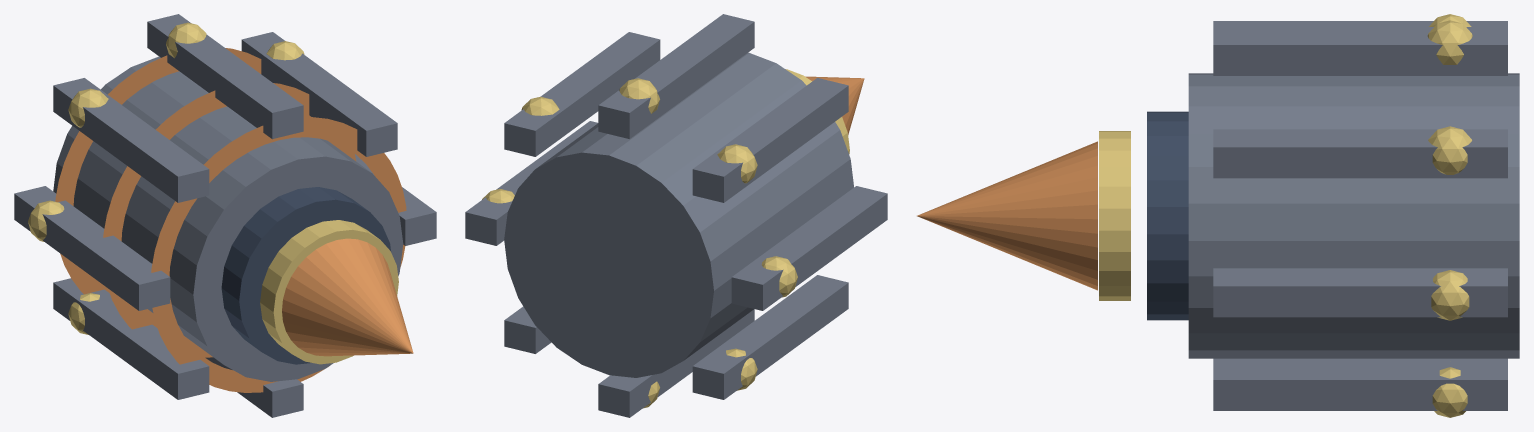
The model's file is thr-4.glb.
3 views of the same model, side by side, from view 1: azimuth 30°, elevation 25°; view 2: azimuth 150°, elevation 25°; view 3: azimuth 270°, elevation 25° (orthographic). The views are drawn at different scales.
Visible parts, largest first — view 1: part000, part004, part002, part023, part009, part011, part013, part015, part007, part003, part022, part021 (+7 smaller); view 2: part000, part015, part013, part009, part011, part007, part017, part005, part019, part012, part010, part014 (+3 smaller); view 3: part000, part004, part019, part009, part005, part007, part002, part003, part006, part011, part008, part010 (+2 smaller).
Part boxes in pixels (x1=…): part000: x1=53, y1=56, x2=403, y2=381; part004: x1=282, y1=238, x2=413, y2=356; part002: x1=221, y1=187, x2=391, y2=364; part023: x1=151, y1=117, x2=406, y2=392; part009: x1=147, y1=14, x2=303, y2=139; part011: x1=53, y1=78, x2=209, y2=202; part013: x1=14, y1=186, x2=170, y2=310; part015: x1=53, y1=278, x2=209, y2=399; part007: x1=241, y1=32, x2=397, y2=156; part003: x1=260, y1=220, x2=398, y2=364; part022: x1=103, y1=83, x2=356, y2=357; part021: x1=55, y1=48, x2=261, y2=320; part000: x1=504, y1=52, x2=853, y2=377; part015: x1=692, y1=275, x2=848, y2=399; part013: x1=731, y1=186, x2=887, y2=310; part009: x1=598, y1=14, x2=754, y2=139; part011: x1=692, y1=78, x2=848, y2=202; part007: x1=504, y1=32, x2=660, y2=156; part017: x1=598, y1=309, x2=754, y2=417; part005: x1=465, y1=121, x2=597, y2=245; part019: x1=504, y1=306, x2=551, y2=353; part012: x1=717, y1=144, x2=757, y2=183; part010: x1=619, y1=78, x2=659, y2=113; part014: x1=761, y1=256, x2=797, y2=297; part000: x1=1188, y1=73, x2=1519, y2=358; part004: x1=917, y1=141, x2=1097, y2=290; part019: x1=1213, y1=362, x2=1507, y2=410; part009: x1=1213, y1=27, x2=1507, y2=75; part005: x1=1213, y1=268, x2=1507, y2=317; part007: x1=1213, y1=129, x2=1507, y2=178; part002: x1=1147, y1=111, x2=1188, y2=320; part003: x1=1099, y1=131, x2=1130, y2=300; part006: x1=1431, y1=270, x2=1469, y2=320; part011: x1=1213, y1=21, x2=1507, y2=26; part008: x1=1428, y1=126, x2=1472, y2=174; part010: x1=1427, y1=20, x2=1472, y2=64.
Size of the model in its own units: 2 by 2 by 2.82.
